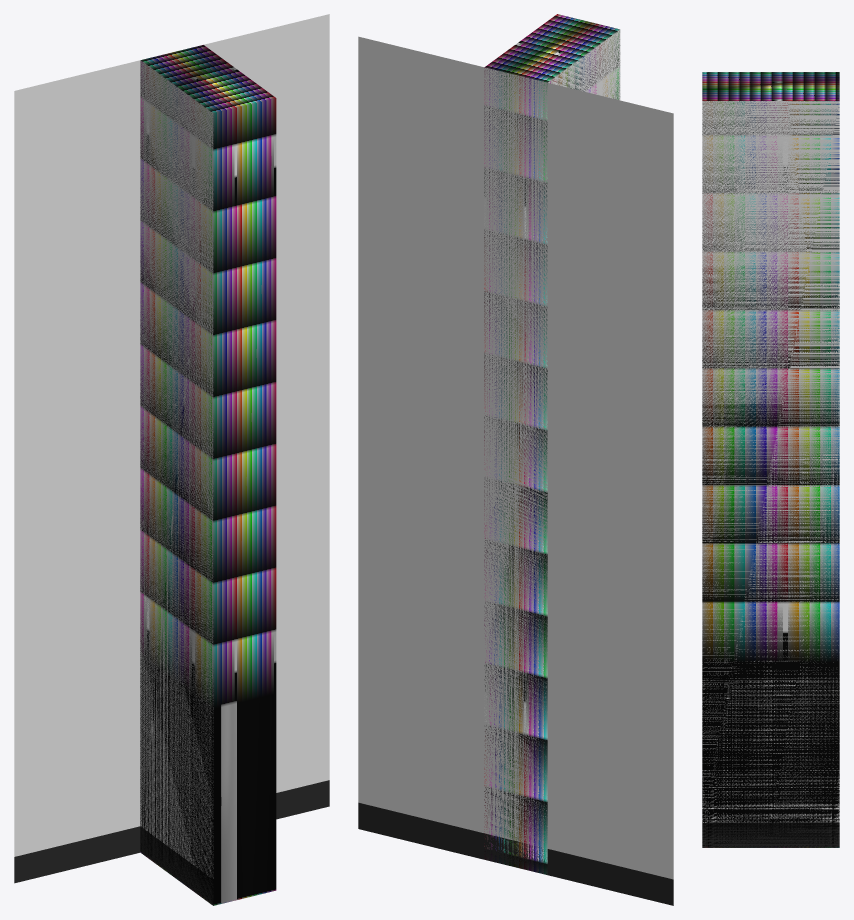
The model's file is outerWall_T_1x1_white.fbx.
3 views of the same model, side by side, from view 1: azimuth 30°, elevation 25°; view 2: azimuth 150°, elevation 25°; view 3: azimuth 270°, elevation 25° (orthographic). The views are drawn at different scales.
Visible parts, largest first — view 1: outerWall_T_1x1_white, outerWall_T_1x1_trigger_1_white; view 2: outerWall_T_1x1_white, outerWall_T_1x1_trigger_1_white; view 3: outerWall_T_1x1_trigger_1_white, outerWall_T_1x1_white.
Part boxes in pixels (x1,y1,x2,y2): outerWall_T_1x1_white: (14,14,329,905); outerWall_T_1x1_trigger_1_white: (140,45,276,905); outerWall_T_1x1_white: (358,30,673,905); outerWall_T_1x1_trigger_1_white: (484,14,620,874); outerWall_T_1x1_trigger_1_white: (702,72,839,847); outerWall_T_1x1_white: (702,101,839,847).
Size of what is drawn, in the model's own units: 125 by 300 by 50.
